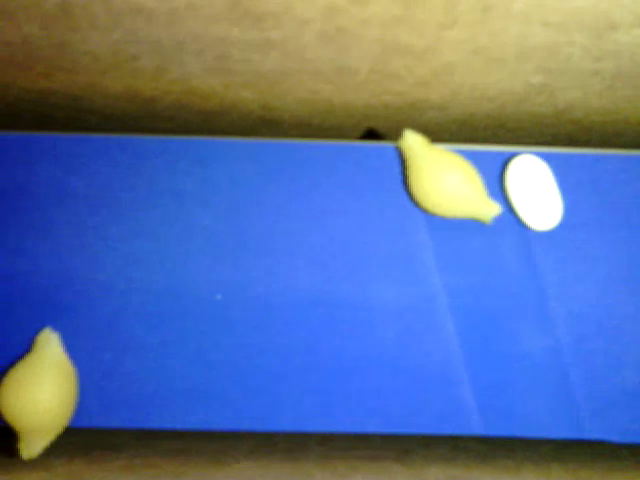shell: (1, 325, 81, 461), (396, 128, 503, 225)
